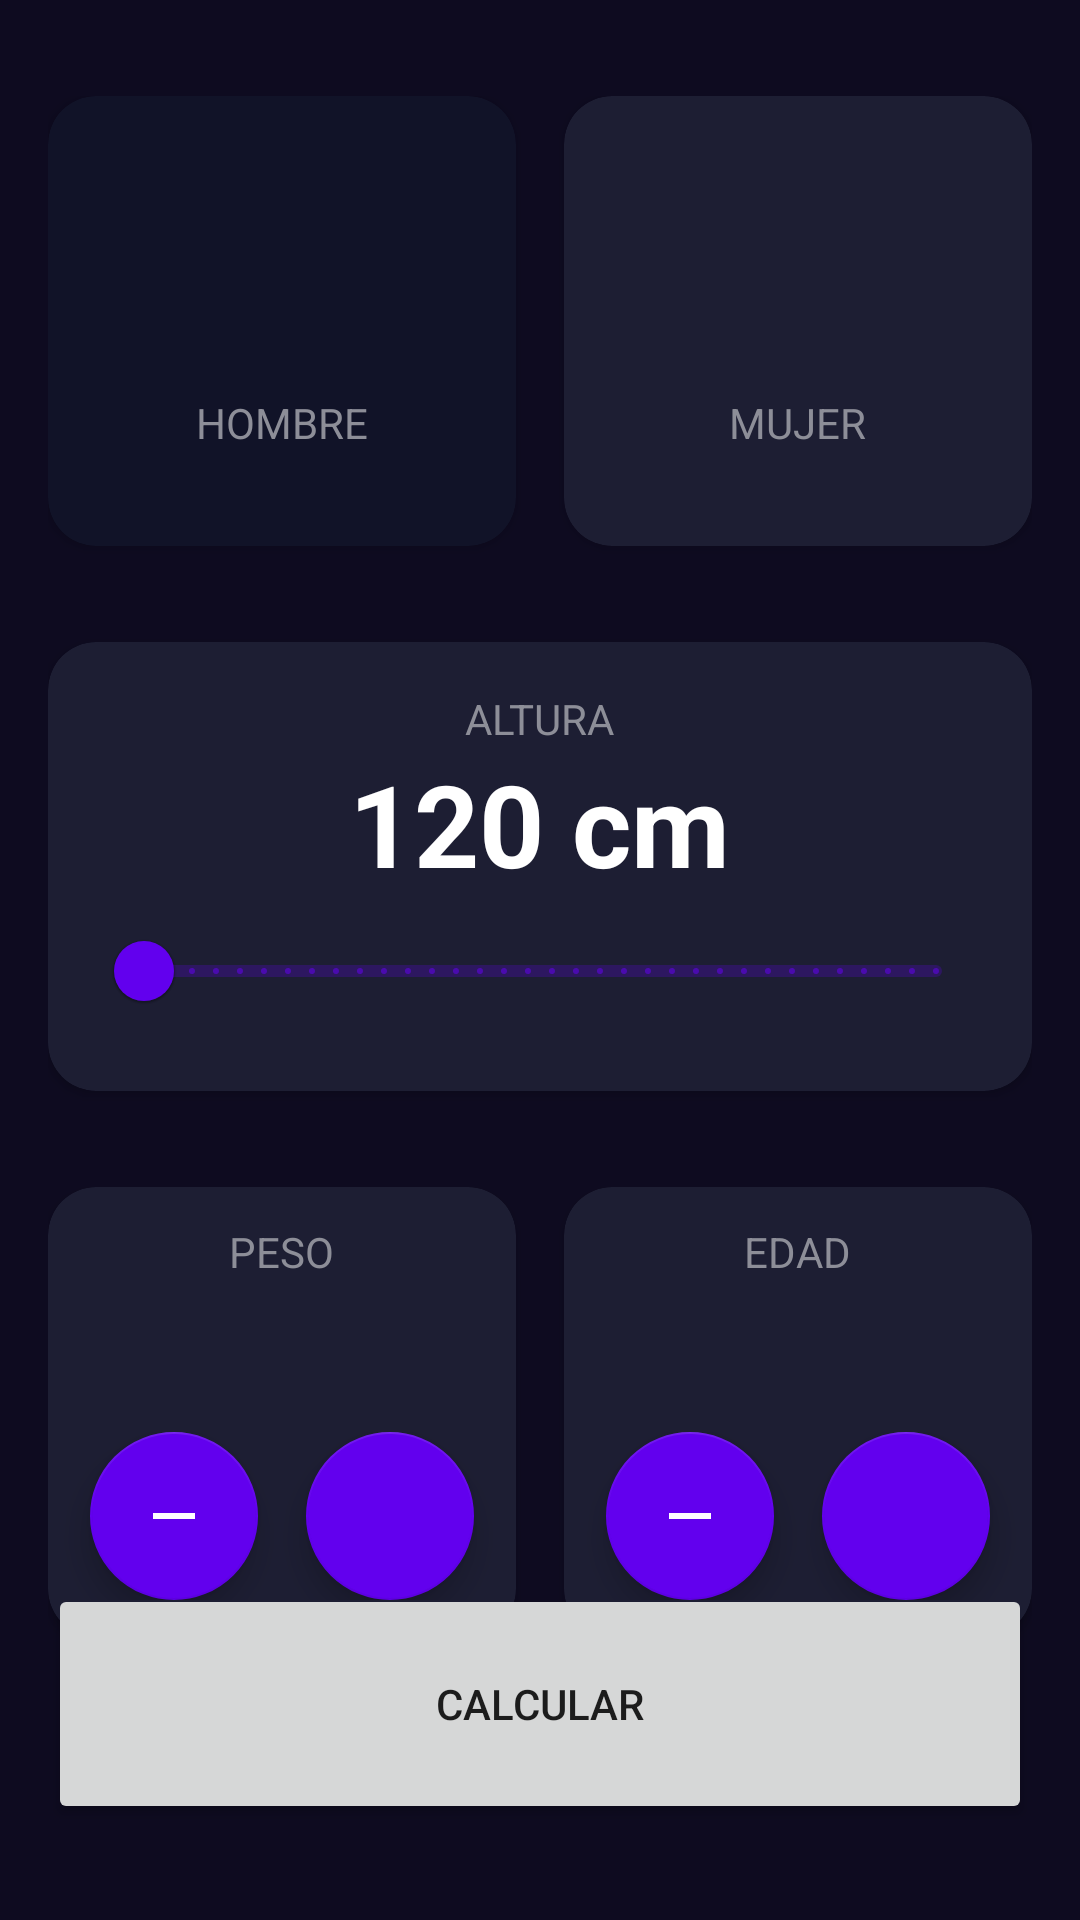

Screen size 1080px x 1920px. Icon name, then its box in pixels as (x1, y1, x2, y2):
subtract: (90, 1432, 258, 1600), (606, 1432, 774, 1600)
